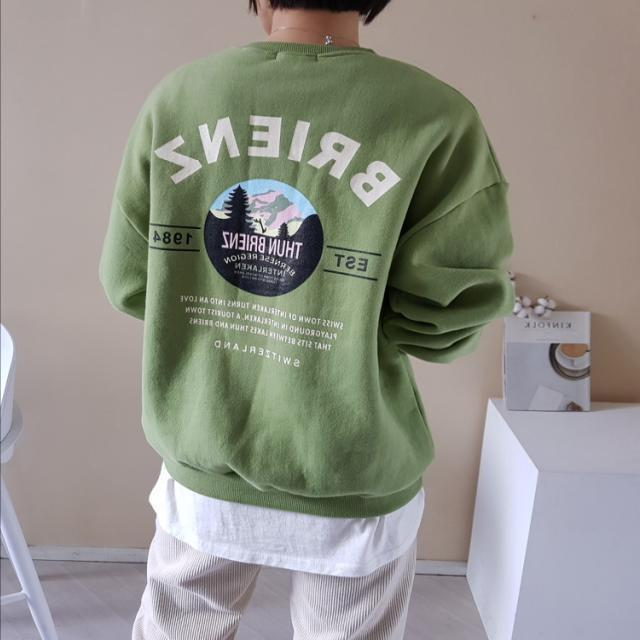short sleeve shirt: (146, 463, 428, 577)
sweater: (98, 36, 517, 521)
trousers: (130, 520, 421, 640)
